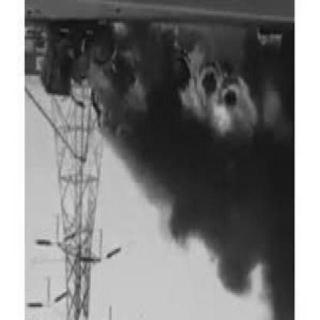Fire: (95, 26, 287, 138)
Smoke: (93, 107, 293, 320)
